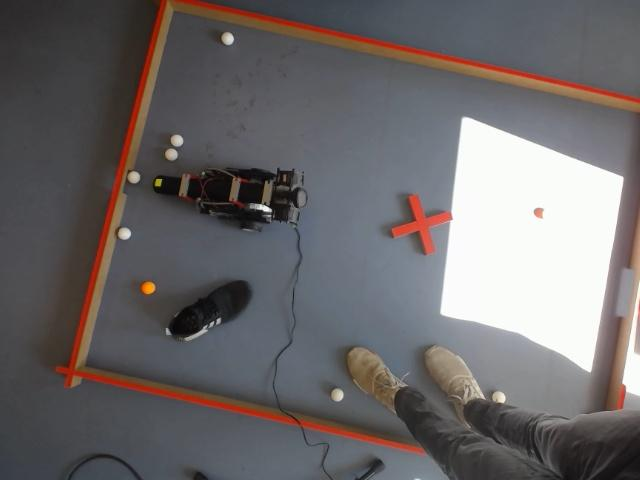orange: (140, 280, 156, 296)
robot: (153, 168, 308, 230)
robot-front: (153, 176, 176, 196)
white: (219, 30, 235, 48), (491, 390, 508, 404), (330, 387, 344, 403), (165, 148, 179, 163), (117, 227, 131, 241), (127, 170, 140, 184), (170, 134, 183, 146)
